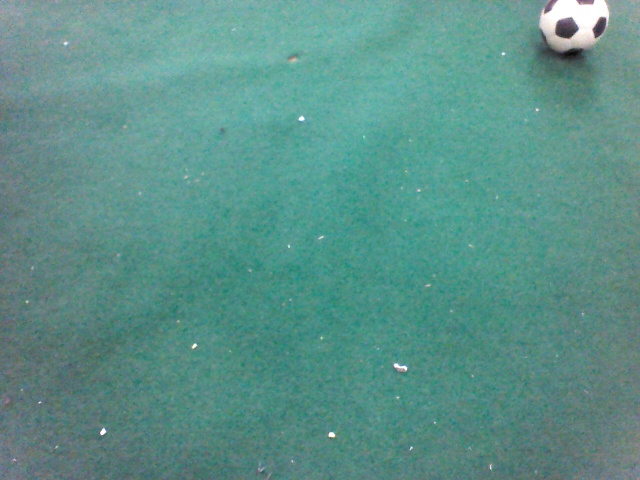ball: (86, 288, 217, 418)
